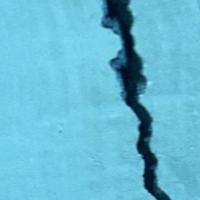crack: (73, 0, 177, 197)
